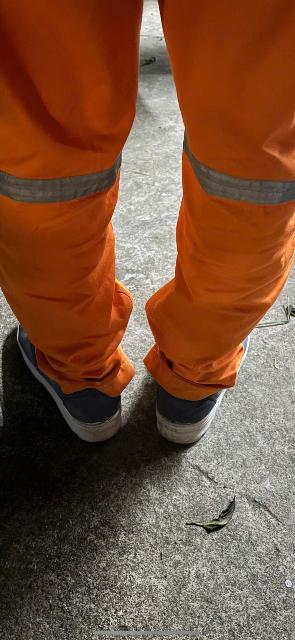shoes: (11, 309, 136, 461), (151, 323, 255, 447)
